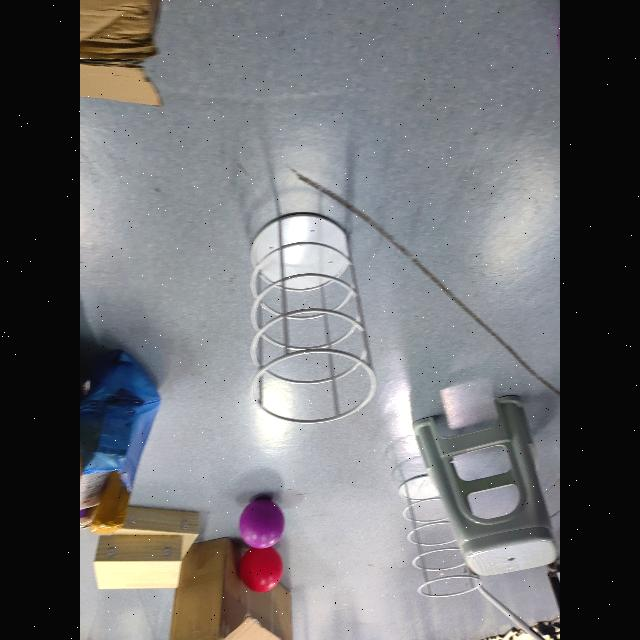S: (248, 210, 379, 426)
